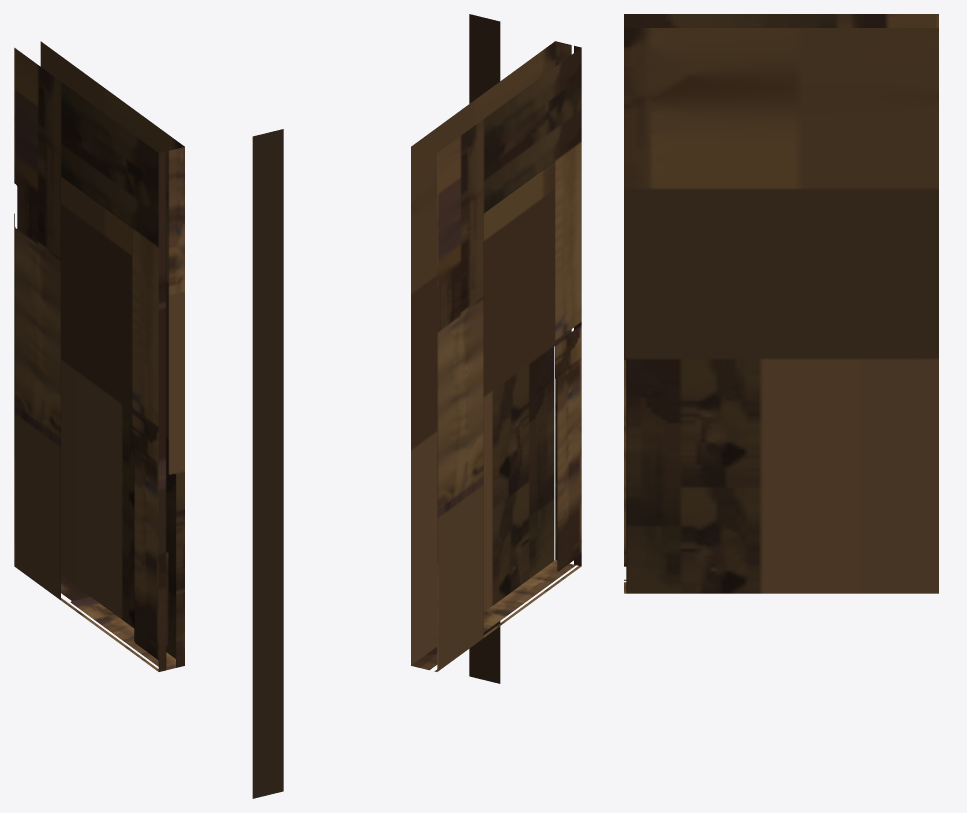
Rendered from section-3.obj.
3 views of the same model, side by side, from view 1: azimuth 30°, elevation 25°; view 2: azimuth 150°, elevation 25°; view 3: azimuth 270°, elevation 25° (orthographic). The views are drawn at different scales.
Bounding box in the file's own units: 0.1638 × 0.8753 × 0.3761.
